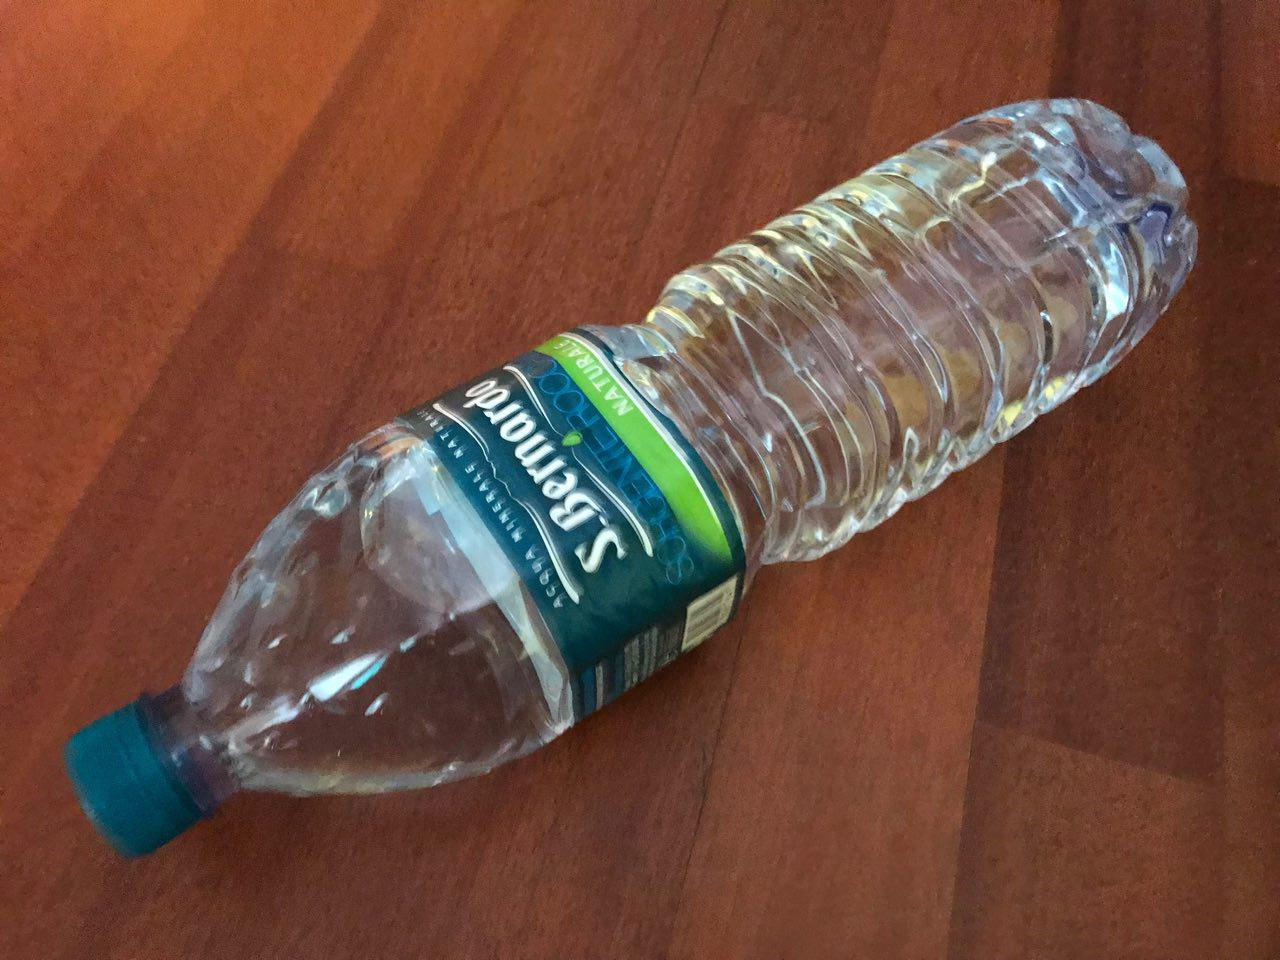san_bernardo: (61, 94, 1201, 866)
